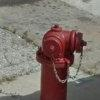Hydrant: (31, 20, 84, 100)
